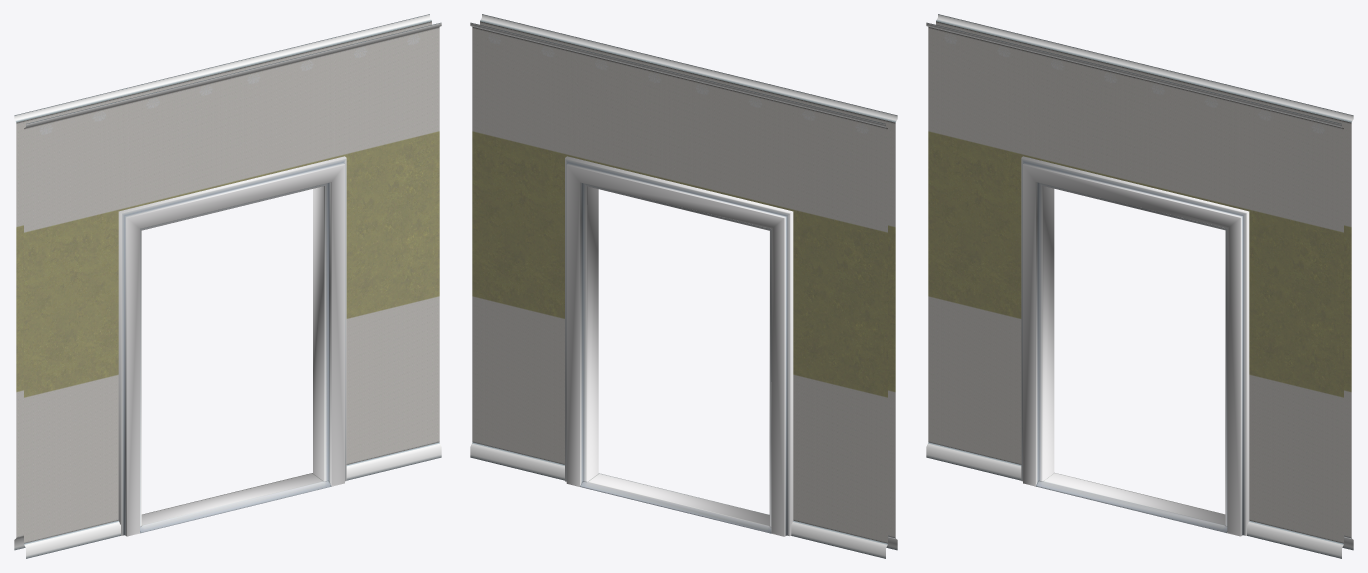
The model's file is waitingroom_reception_flat_doorway.dae.
3 renders of one model, left to right at view 1: azimuth 30°, elevation 25°; view 2: azimuth 150°, elevation 25°; view 3: azimuth 330°, elevation 25°, orthographic.
Visible parts, largest first — view 1: polySurface170; view 2: polySurface170; view 3: polySurface170.
Part boxes in pixels (x1,y1,x2,y2): polySurface170: (14,14,441,558); polySurface170: (470,14,897,558); polySurface170: (926,14,1353,558).
Bounding box in the file's own units: 4 × 4 × 0.279.
